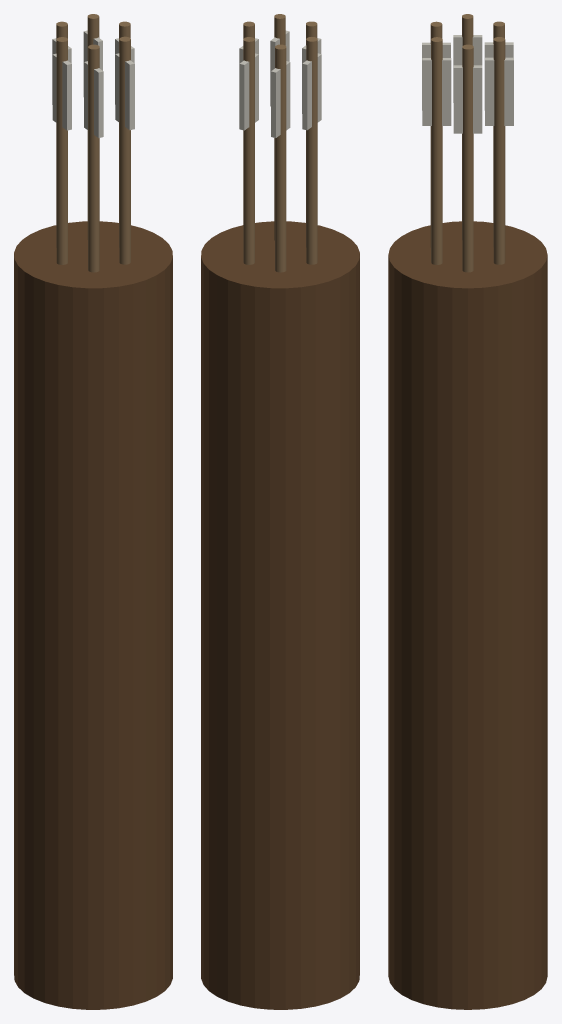
File: Aljava.glb
The picture shows the model from 3 angles, left to right: view 1: azimuth 30°, elevation 25°; view 2: azimuth 150°, elevation 25°; view 3: azimuth 270°, elevation 25°; orthographic projection.
Visible parts, largest first — view 1: Cylinder, Cylinder.004, Cylinder.006, Cylinder.005, Cube.003, Cube.005, Cube.004, Cylinder.002; view 2: Cylinder, Cylinder.003, Cylinder.004, Cylinder.002, Cube.003, Cube.002, Cube.001, Cylinder.006; view 3: Cylinder, Cylinder.002, Cylinder.001, Cylinder.006, Cube, Cube.001, Cube.005, Cube.003, Cylinder.004.
Part boxes in pixels (bbox=[...]): Cylinder: bbox=[14, 221, 172, 1009]; Cylinder.004: bbox=[56, 37, 67, 264]; Cylinder.006: bbox=[119, 36, 130, 264]; Cylinder.005: bbox=[88, 44, 99, 272]; Cube.003: bbox=[52, 53, 71, 130]; Cube.005: bbox=[115, 53, 134, 130]; Cube.004: bbox=[84, 61, 103, 137]; Cylinder.002: bbox=[87, 14, 99, 239]; Cylinder: bbox=[201, 221, 359, 1009]; Cylinder.003: bbox=[275, 44, 286, 272]; Cylinder.004: bbox=[306, 37, 317, 264]; Cylinder.002: bbox=[243, 37, 254, 264]; Cube.003: bbox=[302, 53, 321, 130]; Cube.002: bbox=[271, 61, 290, 137]; Cube.001: bbox=[239, 53, 258, 130]; Cylinder.006: bbox=[274, 14, 285, 240]; Cylinder: bbox=[388, 221, 547, 1009]; Cylinder.002: bbox=[493, 37, 505, 264]; Cylinder.001: bbox=[462, 44, 473, 272]; Cylinder.006: bbox=[431, 37, 442, 264]; Cube: bbox=[453, 65, 482, 133]; Cube.001: bbox=[485, 57, 513, 125]; Cube.005: bbox=[422, 58, 451, 125]; Cube.003: bbox=[453, 35, 482, 102]; Cylinder.004: bbox=[462, 14, 473, 239].
Bounding box in the file's own units: 0.11 × 0.72 × 0.11.
